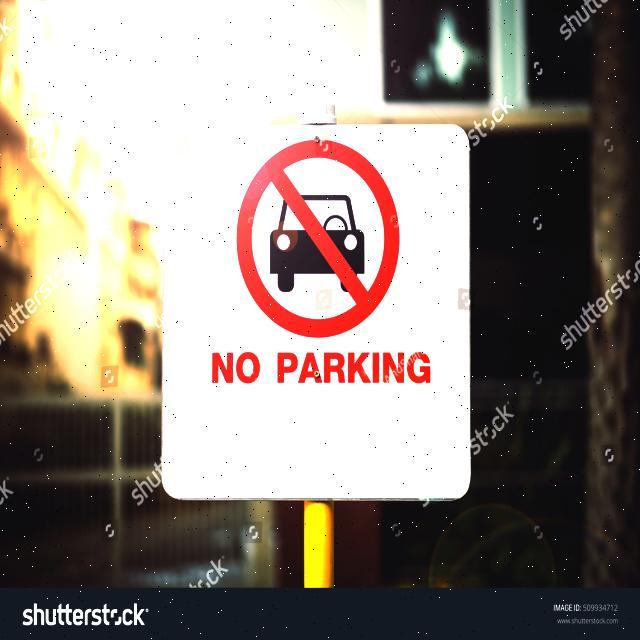Traffic sign: (152, 118, 482, 506)
